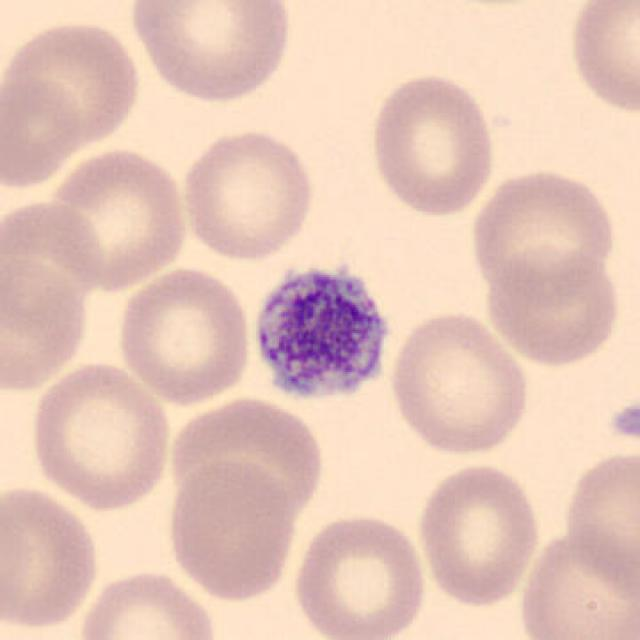Platelets: (245, 254, 402, 411), (604, 398, 640, 444)
RBC: (25, 358, 176, 513), (384, 307, 533, 458), (41, 144, 192, 291), (162, 393, 329, 522), (466, 164, 620, 300), (114, 264, 256, 408), (366, 68, 500, 218), (164, 457, 300, 603), (414, 458, 544, 610), (176, 125, 318, 263), (2, 16, 144, 153), (290, 508, 430, 640), (124, 0, 297, 106), (480, 244, 624, 368), (0, 481, 103, 633), (513, 523, 638, 640), (0, 194, 108, 328), (0, 250, 91, 395), (558, 446, 638, 596), (73, 566, 222, 640), (0, 68, 85, 192), (564, 0, 638, 118)
